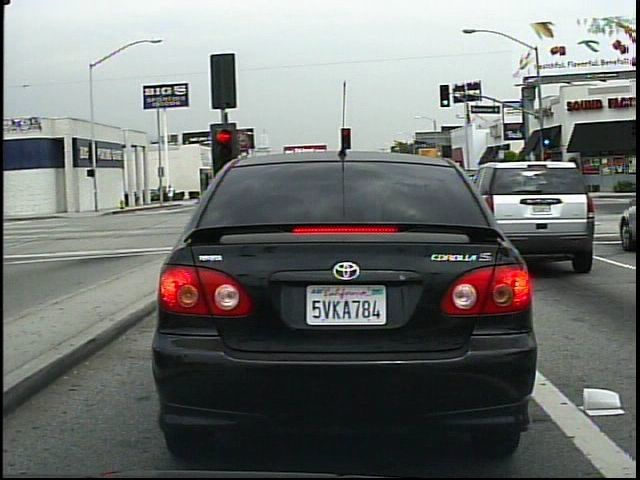person: (517, 166, 533, 198), (166, 181, 177, 207)
